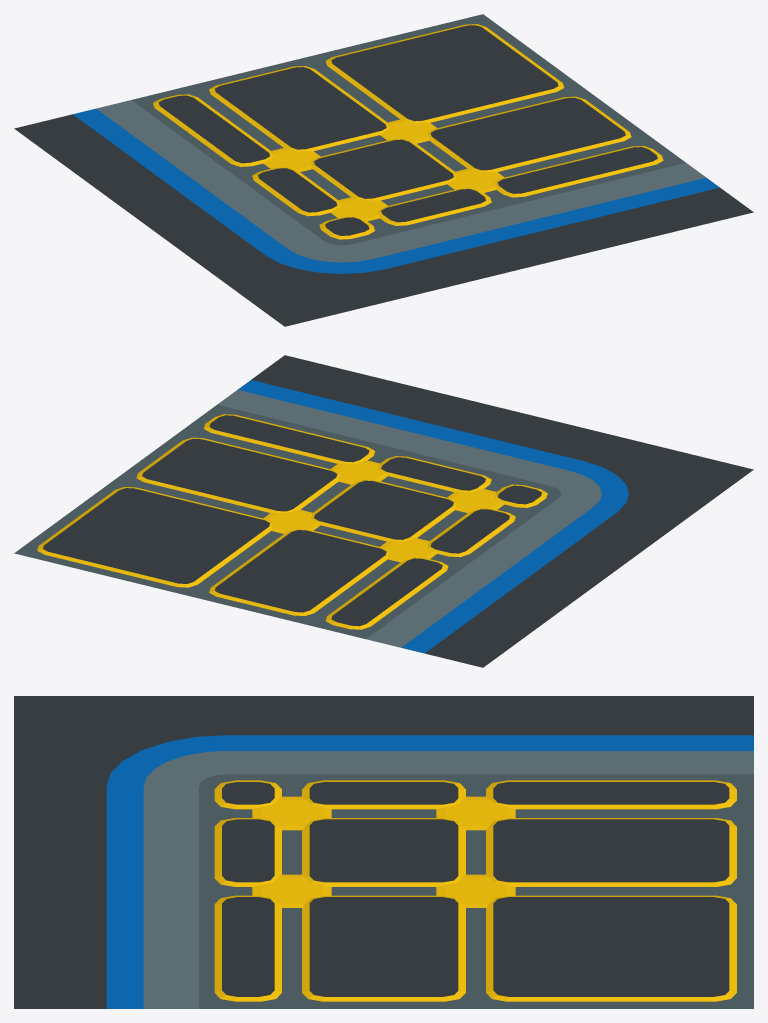
File: Floor_type_C_017.fbx
The picture shows the model from 3 angles, top to bottom: view 1: azimuth 30°, elevation 25°; view 2: azimuth 150°, elevation 25°; view 3: azimuth 270°, elevation 25°; orthographic projection. The views are drawn at different scales.
Parts seen in each view (by area): view 1: Floor_type_C_017; view 2: Floor_type_C_017; view 3: Floor_type_C_017.
Boxes of the visible parts, x1,y1,x2,y2 form: Floor_type_C_017: (14, 14, 753, 326); Floor_type_C_017: (14, 355, 753, 667); Floor_type_C_017: (14, 696, 753, 1008).
Size of the model in its own units: 400 by 400 by 1.34.
